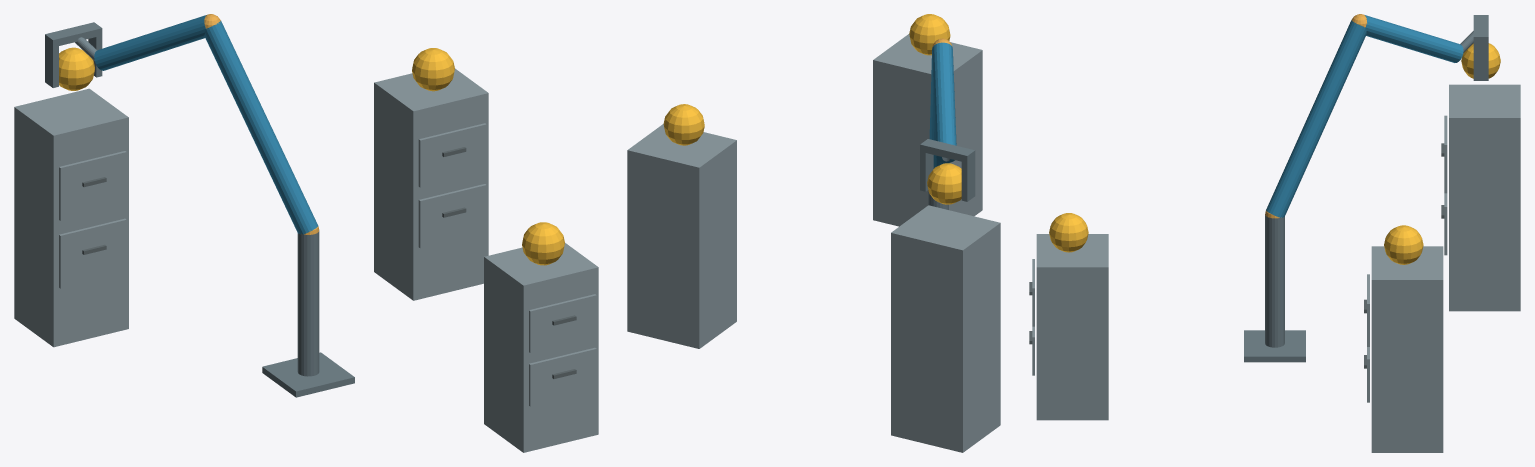
3 renders of one model, left to right at view 1: azimuth 30°, elevation 25°; view 2: azimuth 150°, elevation 25°; view 3: azimuth 270°, elevation 25°, orthographic. The views are drawn at different scales.
Parts seen in each view (by area): view 1: cabinet_3 body, cabinet_2 body, cabinet_1 body, moving link 1, cabinet_3 drawer front, cabinet_3 drawer front.001, cabinet_2 drawer front, cabinet_2 drawer front.001, fixed post, cabinet_1 drawer front, cabinet_1 drawer front.001, moving link 2 (+6 smaller); view 2: cabinet_3 body, cabinet_2 body, cabinet_1 body, moving link 2, released ball_2, ball ball_3, released ball_1, gripper bridge, gripper finger -1, gripper finger 1, moving link 1; view 3: cabinet_3 body, cabinet_2 body, cabinet_1 body, moving link 1, fixed post, moving link 2, pedestal, released ball_2, released ball_1, ball ball_3, gripper finger 1.
Part boxes in pixels (box(x1,y1,x2,y2)): cabinet_3 body: box(14, 88, 128, 347); cabinet_2 body: box(374, 68, 488, 300); cabinet_1 body: box(484, 243, 598, 452); moving link 1: box(204, 21, 318, 234); cabinet_3 drawer front: box(59, 218, 126, 288); cabinet_3 drawer front.001: box(59, 151, 126, 220); cabinet_2 drawer front: box(418, 184, 486, 248); cabinet_2 drawer front.001: box(418, 123, 486, 187); fixed post: box(297, 231, 319, 376); cabinet_1 drawer front: box(529, 347, 596, 406); cabinet_1 drawer front.001: box(529, 294, 596, 353); moving link 2: box(94, 15, 206, 70); cabinet_3 body: box(891, 205, 1000, 452); cabinet_2 body: box(627, 124, 736, 348); cabinet_1 body: box(873, 34, 982, 226); moving link 2: box(932, 42, 956, 162); released ball_2: box(663, 104, 704, 145); ball ball_3: box(927, 163, 961, 204); released ball_1: box(909, 14, 950, 55); gripper bridge: box(920, 139, 975, 162); gripper finger -1: box(961, 157, 975, 201); gripper finger 1: box(920, 151, 933, 191); moving link 1: box(929, 51, 949, 168); cabinet_3 body: box(1449, 84, 1520, 311); cabinet_2 body: box(1371, 246, 1443, 452); cabinet_1 body: box(1036, 234, 1108, 420); moving link 1: box(1266, 20, 1366, 217); fixed post: box(1265, 214, 1284, 347); moving link 2: box(1365, 15, 1463, 62); pedestal: box(1244, 330, 1305, 362); released ball_2: box(1384, 225, 1423, 264); released ball_1: box(1049, 213, 1088, 252); ball ball_3: box(1461, 43, 1500, 78); gripper finger 1: box(1473, 44, 1488, 80).
Bounding box in the file's own units: 1.67 × 1.39 × 1.98.
